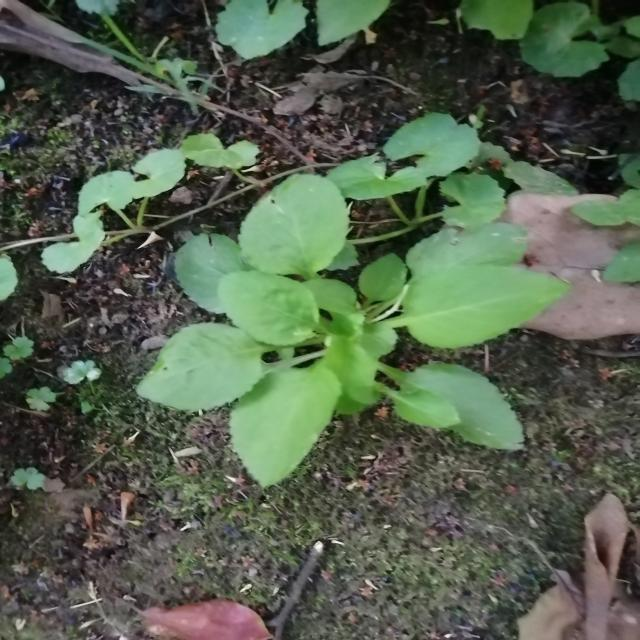Viola: (174, 220, 552, 483)
